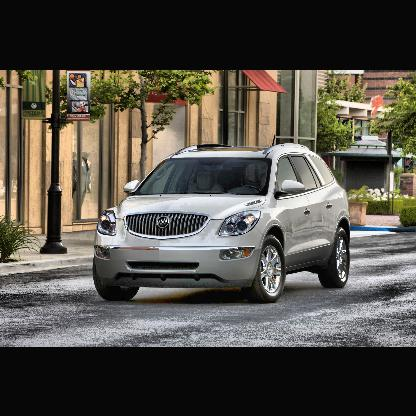Buick Enclave SUV 2012: (90, 138, 353, 307)
